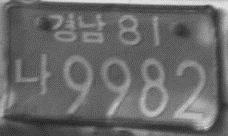1: (148, 14, 164, 47)
2: (170, 59, 209, 122)
8: (139, 56, 169, 117), (116, 13, 141, 46)
9: (98, 54, 132, 121), (59, 53, 95, 114)
경남_O: (48, 12, 106, 45)
나: (13, 50, 51, 97)
